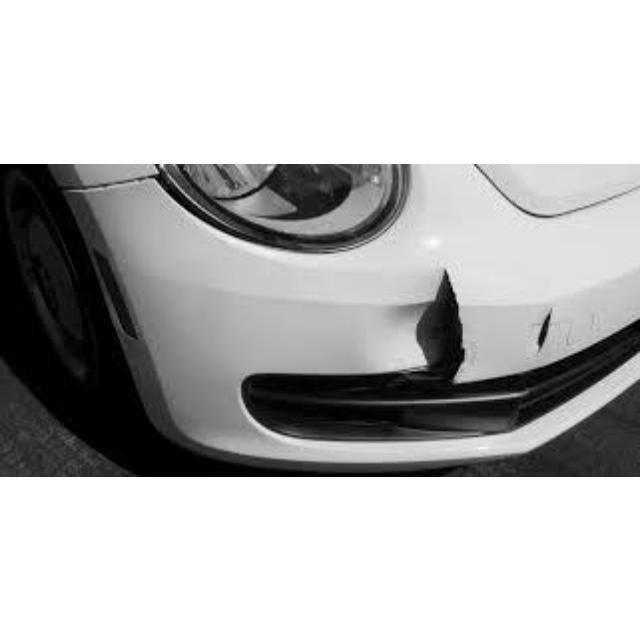front-bumper-dent: (119, 230, 577, 459)
